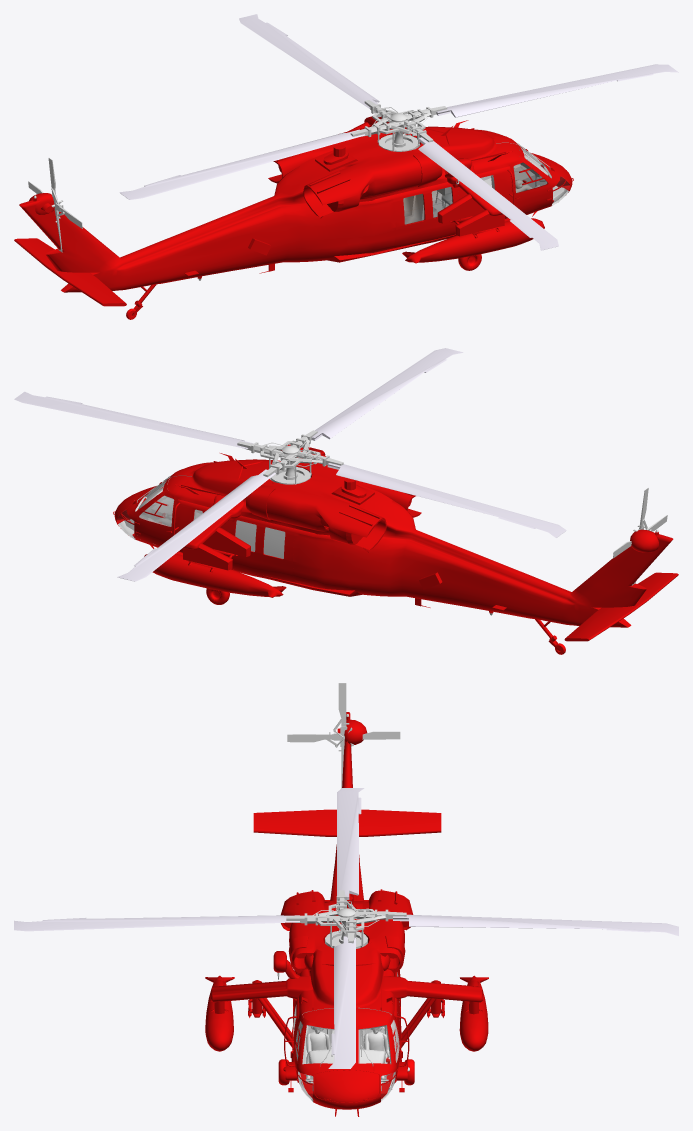
File: helicopter.glb
3 views of the same model, one above another, from view 1: azimuth 30°, elevation 25°; view 2: azimuth 150°, elevation 25°; view 3: azimuth 270°, elevation 25° (orthographic). The views are drawn at different scales.
Visible parts, largest first — view 1: node_id19, node_id12.001, node_id12, node_id15, node_id13, node_id19.004, node_id16, node_id15.001, node_id19.003, node_id11, node_id16.001; view 2: node_id19, node_id12.001, node_id12, node_id14, node_id13, node_id17, node_id14.001, node_id19.003, node_id17.001, node_id11; view 3: node_id19, node_id12.001, node_id13, node_id12, node_id19.003, node_id11, node_id18, node_id19.002.
Part boxes in pixels (bbox=[...]): node_id19: bbox=[19, 116, 573, 316]; node_id12.001: bbox=[119, 14, 678, 250]; node_id12: bbox=[350, 100, 447, 151]; node_id15: bbox=[392, 185, 458, 248]; node_id13: bbox=[14, 238, 126, 306]; node_id19.004: bbox=[403, 175, 564, 224]; node_id16: bbox=[509, 159, 552, 213]; node_id15.001: bbox=[403, 187, 452, 224]; node_id19.003: bbox=[431, 129, 568, 205]; node_id11: bbox=[28, 158, 82, 252]; node_id16.001: bbox=[513, 162, 547, 193]; node_id19: bbox=[113, 444, 673, 651]; node_id12.001: bbox=[14, 348, 566, 581]; node_id12: bbox=[237, 430, 343, 484]; node_id14: bbox=[229, 518, 295, 582]; node_id13: bbox=[564, 572, 678, 641]; node_id17: bbox=[134, 492, 178, 545]; node_id14.001: bbox=[235, 520, 285, 558]; node_id19.003: bbox=[118, 462, 209, 539]; node_id17.001: bbox=[139, 495, 174, 526]; node_id11: bbox=[613, 487, 667, 585]; node_id19: bbox=[205, 712, 488, 1116]; node_id12.001: bbox=[14, 788, 678, 1068]; node_id13: bbox=[253, 809, 441, 836]; node_id12: bbox=[286, 890, 406, 948]; node_id19.003: bbox=[293, 1005, 397, 1101]; node_id11: bbox=[287, 683, 400, 788]; node_id18: bbox=[305, 1026, 389, 1081]; node_id19.002: bbox=[283, 1008, 390, 1071].
Size of the model in its own units: 6.14 by 1.68 by 5.12.
9 materials, 2 textured.
